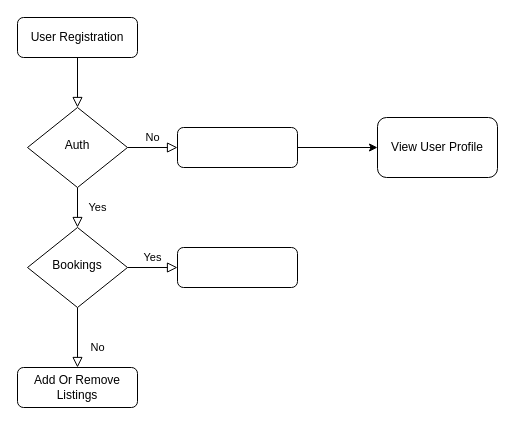
Image size: 515x425. Some labels were removed from this diagram. Each missing label, with the centre of its shape:
Login: the point at 237,147
Payment: the point at 237,267
